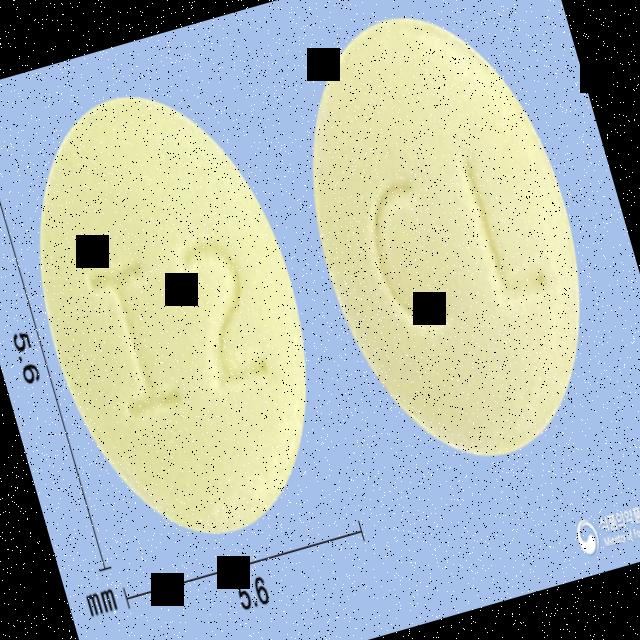Immuthera - 50mg: (0, 59, 353, 567), (263, 0, 628, 489)
